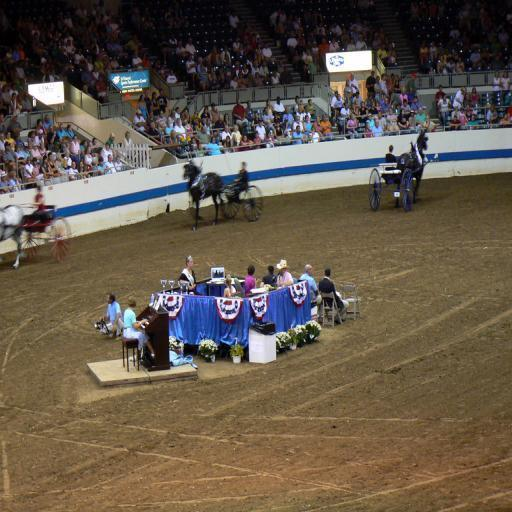horse: (182, 158, 228, 230), (394, 128, 429, 210), (0, 204, 28, 270)
